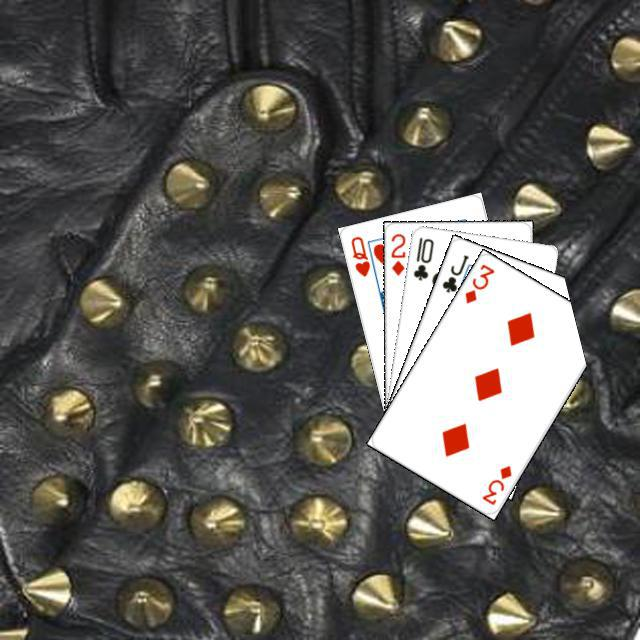10c: (408, 232, 435, 282)
2d: (386, 229, 407, 277)
3d: (477, 460, 513, 507), (460, 259, 496, 305)
Jc: (437, 250, 470, 294)
Qh: (346, 231, 372, 279)
